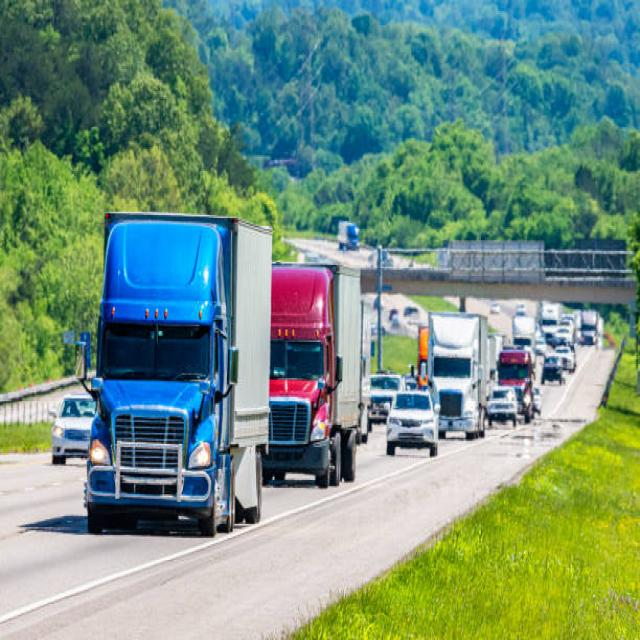Car: (50, 392, 97, 464)
Truck: (75, 210, 273, 535), (261, 259, 363, 486), (416, 311, 491, 439)
